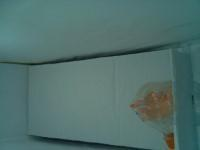bottle: (130, 78, 176, 150)
